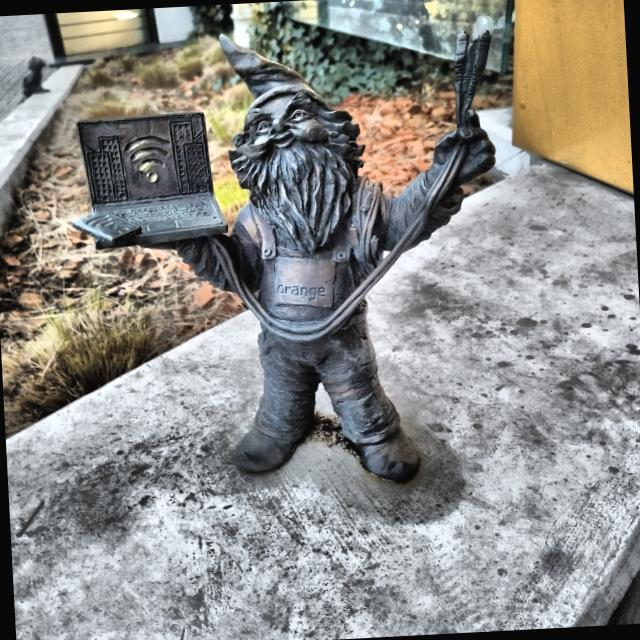Krasnal_Teleclaw: (73, 32, 494, 481)
